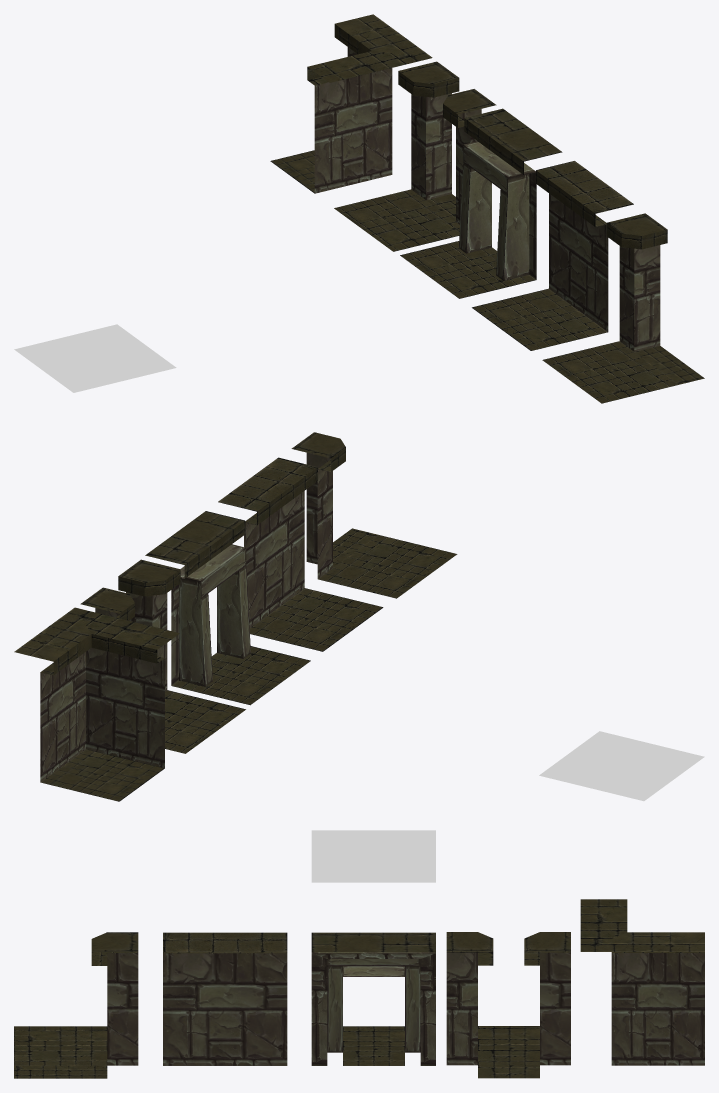
File: Aztec_Floor_1_Tileset.fbx
3 renders of one model, top to bottom at view 1: azimuth 30°, elevation 25°; view 2: azimuth 150°, elevation 25°; view 3: azimuth 270°, elevation 25°, orthographic. The views are drawn at different scales.
Visible parts, largest first — view 1: doorway, corner_001, wall_001, Plane003, pole001, Plane001; view 2: corner_001, doorway, wall_001, pole001, Plane003, Plane001; view 3: wall_001, corner_001, doorway, Plane003, pole001, Plane001.
Boxes of the visible parts, left/top/right/bottom form: doorway: left=400, top=108, right=562, bottom=298; corner_001: left=270, top=14, right=432, bottom=193; wall_001: left=472, top=161, right=633, bottom=350; Plane003: left=334, top=61, right=496, bottom=251; pole001: left=542, top=213, right=704, bottom=403; Plane001: left=14, top=324, right=176, bottom=392; corner_001: left=14, top=607, right=179, bottom=801; doorway: left=145, top=511, right=310, bottom=705; wall_001: left=218, top=457, right=383, bottom=651; pole001: left=291, top=432, right=457, bottom=598; Plane003: left=80, top=559, right=245, bottom=753; Plane001: left=539, top=731, right=704, bottom=801; wall_001: left=163, top=932, right=287, bottom=1065; corner_001: left=580, top=899, right=704, bottom=1065; doorway: left=311, top=932, right=435, bottom=1065; Plane003: left=446, top=932, right=570, bottom=1078; pole001: left=14, top=932, right=138, bottom=1078; Plane001: left=311, top=830, right=435, bottom=882.
Size of the model in its own units: 190 by 45 by 222.
Materials: 1 (1 with a texture image).
